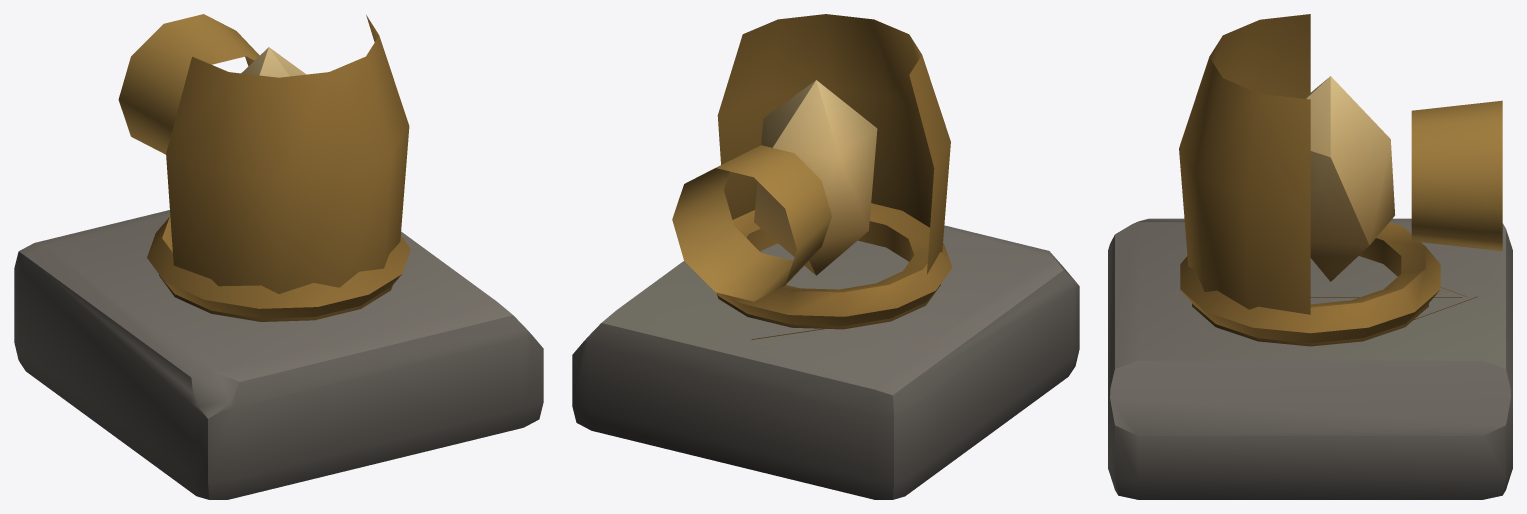
Rendered from ruins-pc-lamp.glb.
3 views of the same model, side by side, from view 1: azimuth 30°, elevation 25°; view 2: azimuth 150°, elevation 25°; view 3: azimuth 270°, elevation 25° (orthographic). The views are drawn at different scales.
Parts seen in each view (by area): view 1: 0_ruins_pc_lamp, 1_glow; view 2: 0_ruins_pc_lamp, 1_glow; view 3: 0_ruins_pc_lamp, 1_glow.
Part boxes in pixels (x1,y1,x2,y2): 0_ruins_pc_lamp: (14,14,543,499); 1_glow: (241,47,306,77); 0_ruins_pc_lamp: (572,14,1079,499); 1_glow: (754,80,877,275); 0_ruins_pc_lamp: (1108,14,1512,499); 1_glow: (1304,76,1394,281).
Size of the model in its own units: 0.4 by 0.3932 by 0.4.
